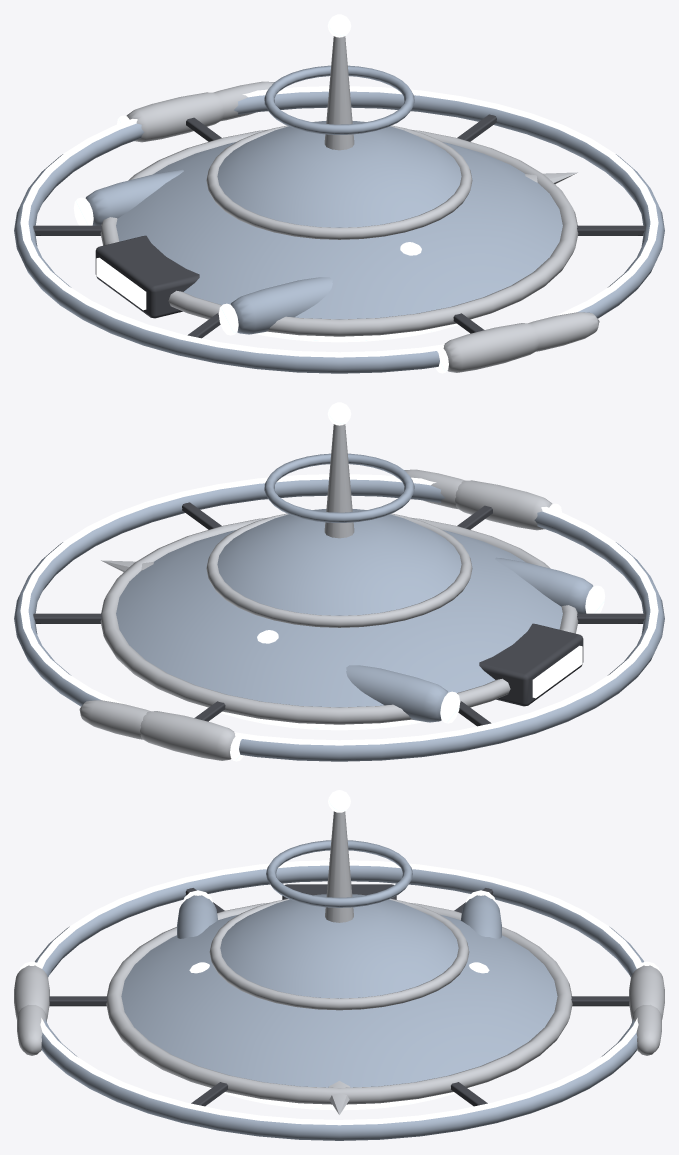
File: saucer_titan.glb
3 renders of one model, top to bottom at view 1: azimuth 30°, elevation 25°; view 2: azimuth 150°, elevation 25°; view 3: azimuth 270°, elevation 25°, orthographic. The views are drawn at different scales.
Visible parts, largest first — view 1: saucer_titan; view 2: saucer_titan; view 3: saucer_titan.
Part boxes in pixels (<box>): saucer_titan: <box>14,14,664,373</box>; saucer_titan: <box>14,402,664,761</box>; saucer_titan: <box>14,790,664,1140</box>.
Size of the model in its own units: 3 by 1.34 by 3.07.
